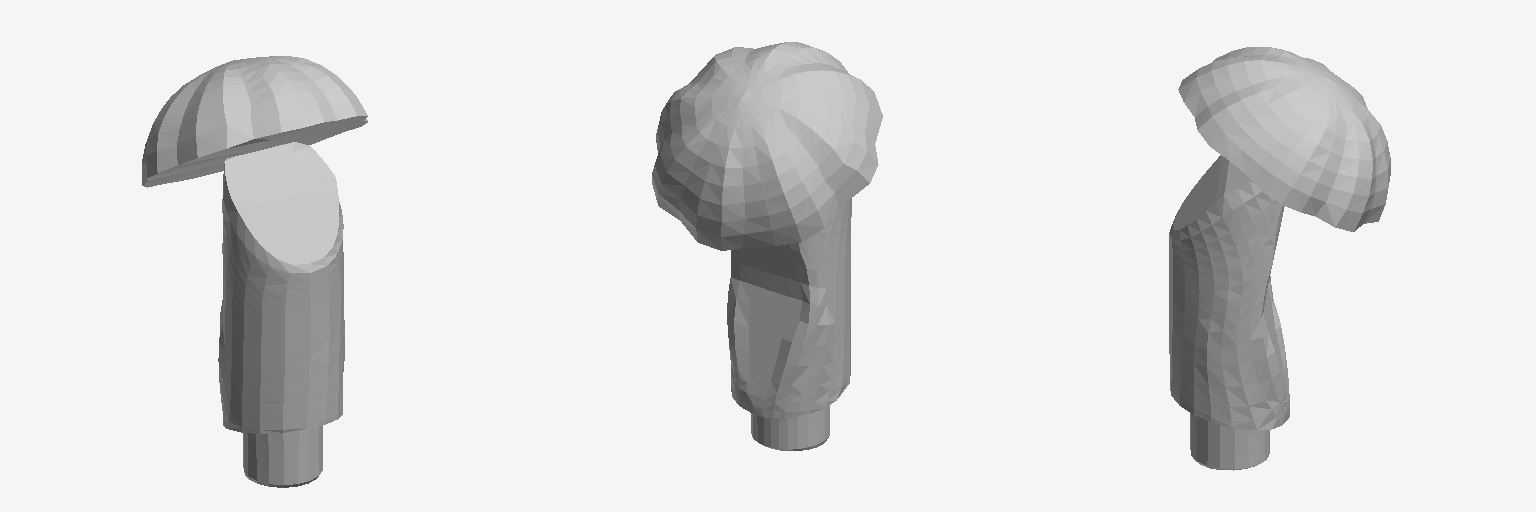
Rendered from POC2.obj.
3 views of the same model, side by side, from view 1: azimuth 30°, elevation 25°; view 2: azimuth 150°, elevation 25°; view 3: azimuth 270°, elevation 25° (orthographic).
Parts seen in each view (by area): view 1: Body, Umbrella; view 2: Umbrella, Body; view 3: Body, Umbrella.
Boxes of the visible parts, box(x1,y1,x2,y2) form: Body: box(218, 142, 344, 487); Umbrella: box(142, 56, 367, 187); Umbrella: box(652, 42, 882, 250); Body: box(727, 198, 851, 450); Body: box(1169, 155, 1289, 470); Umbrella: box(1178, 47, 1390, 231).
Size of the model in its own units: 202 by 363 by 184.